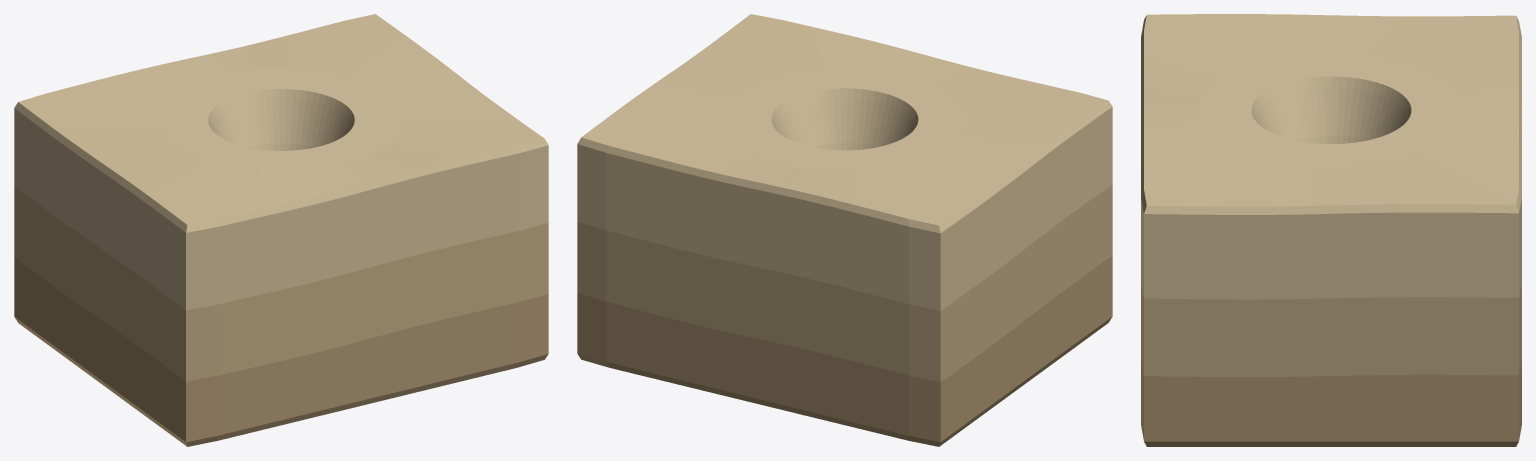
File: conichnus-conical-burrow.glb
3 views of the same model, side by side, from view 1: azimuth 30°, elevation 25°; view 2: azimuth 150°, elevation 25°; view 3: azimuth 270°, elevation 25° (orthographic). The views are drawn at different scales.
Visible parts, largest first — view 1: sediment-with-continuous-conical-negative-cavity; view 2: sediment-with-continuous-conical-negative-cavity; view 3: sediment-with-continuous-conical-negative-cavity.
Part boxes in pixels (x1,y1,x2,y2): sediment-with-continuous-conical-negative-cavity: (14,14,548,446); sediment-with-continuous-conical-negative-cavity: (577,14,1112,446); sediment-with-continuous-conical-negative-cavity: (1141,14,1521,446).
Bounding box in the file's own units: 0.24 × 0.1407 × 0.2.
